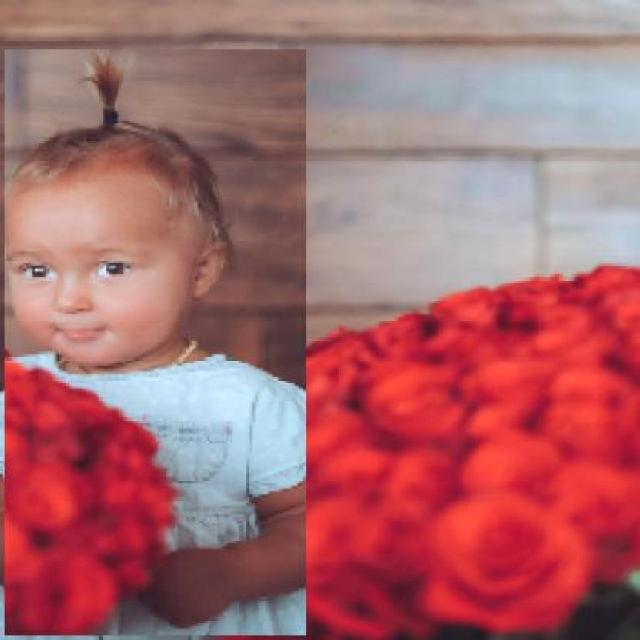child: (3, 49, 306, 637)
